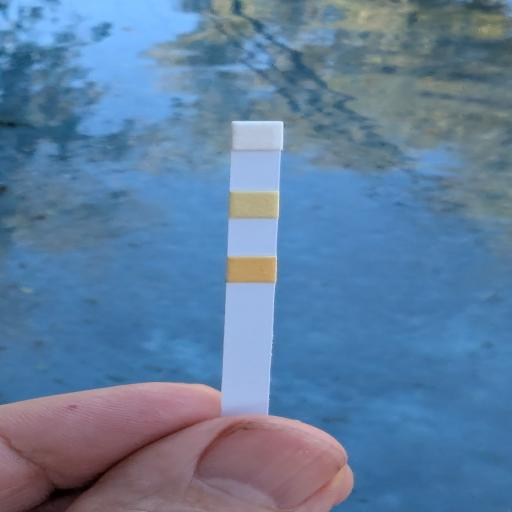strip: (221, 120, 285, 417)
